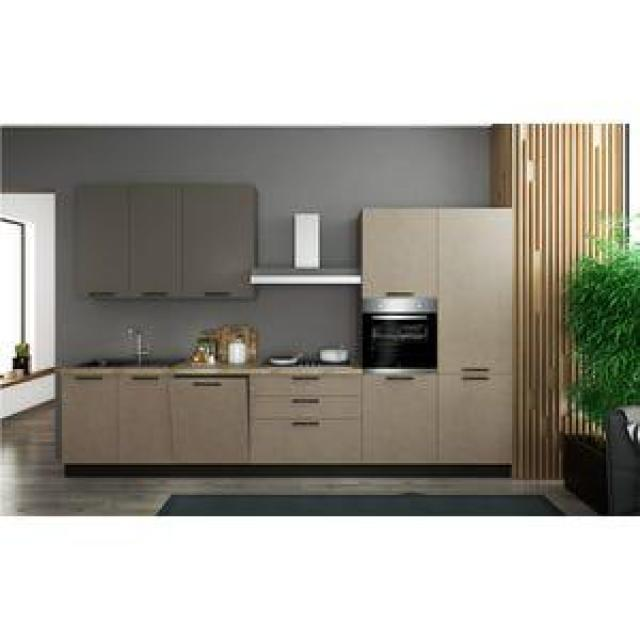dishwasher: (164, 369, 254, 467)
